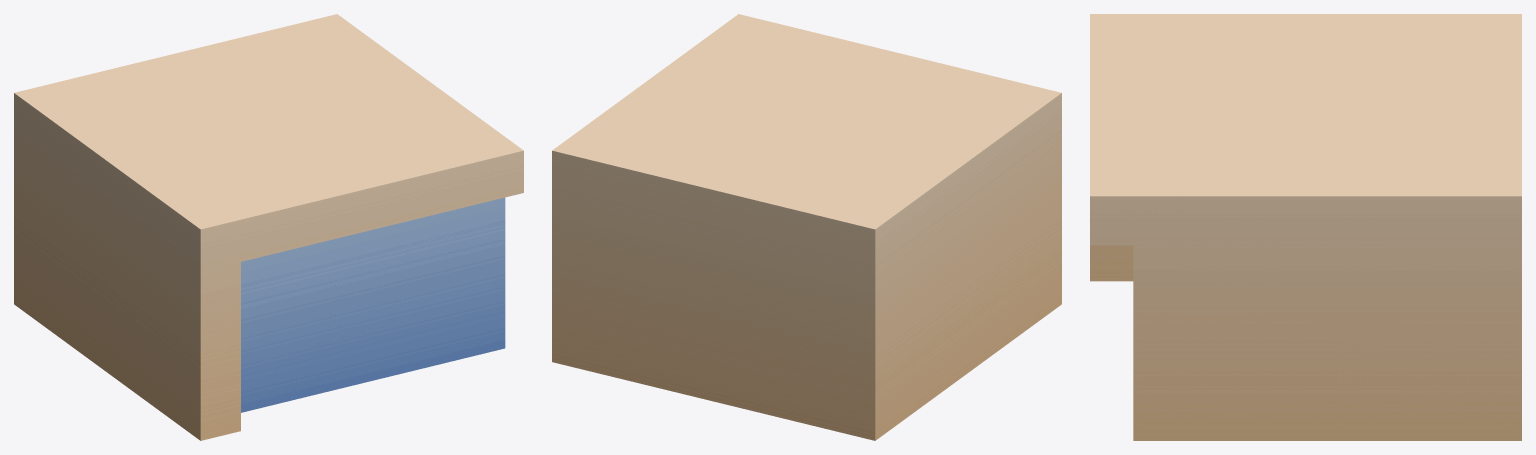
The model's file is building-window-large-left.glb.
3 renders of one model, left to right at view 1: azimuth 30°, elevation 25°; view 2: azimuth 150°, elevation 25°; view 3: azimuth 270°, elevation 25°, orthographic. The views are drawn at different scales.
Parts seen in each view (by area): view 1: building-window-large-left; view 2: building-window-large-left; view 3: building-window-large-left.
Part boxes in pixels (bbox=[...]): building-window-large-left: bbox=[14, 14, 523, 440]; building-window-large-left: bbox=[552, 14, 1061, 440]; building-window-large-left: bbox=[1090, 14, 1521, 440].
Bounding box in the file's own units: 1 × 0.625 × 1.
1 material, 1 textured.
